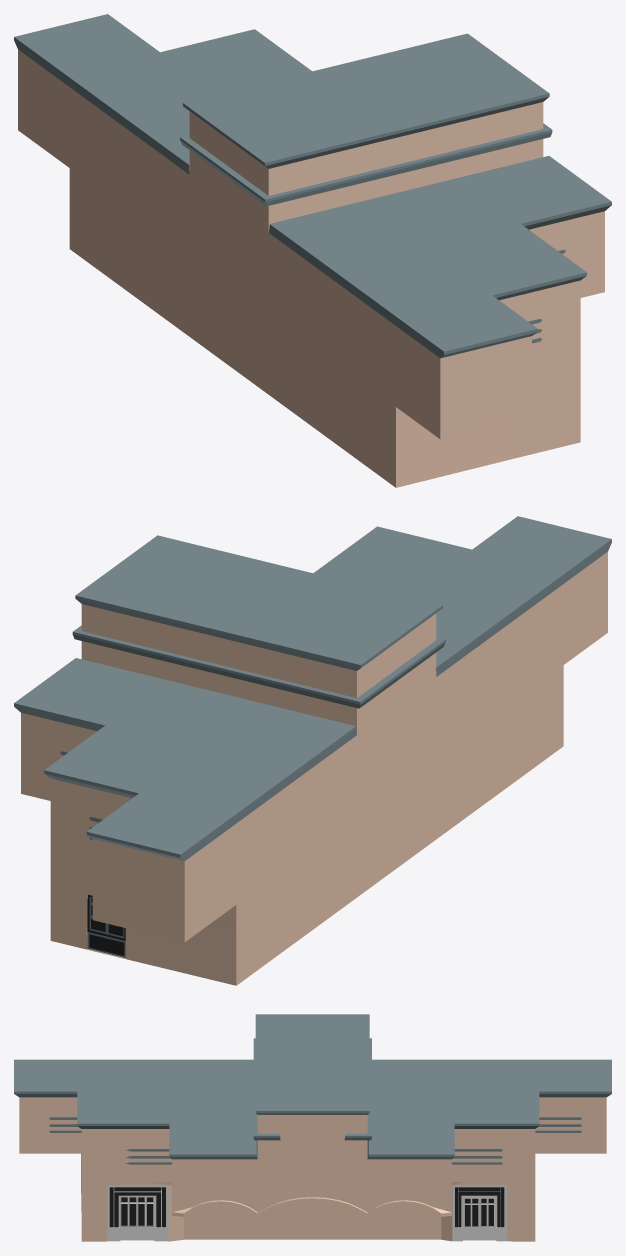
Rendered from cube_lev3.glb.
3 renders of one model, top to bottom at view 1: azimuth 30°, elevation 25°; view 2: azimuth 150°, elevation 25°; view 3: azimuth 270°, elevation 25°, orthographic. The views are drawn at different scales.
Visible parts, largest first — view 1: cube_lev3; view 2: cube_lev3; view 3: cube_lev3.
Part boxes in pixels (x1,y1,x2,y2): cube_lev3: (14,14,611,487); cube_lev3: (14,516,611,985); cube_lev3: (14,1014,611,1241).
Size of the model in its own units: 11.57 by 9.02 by 30.01.
